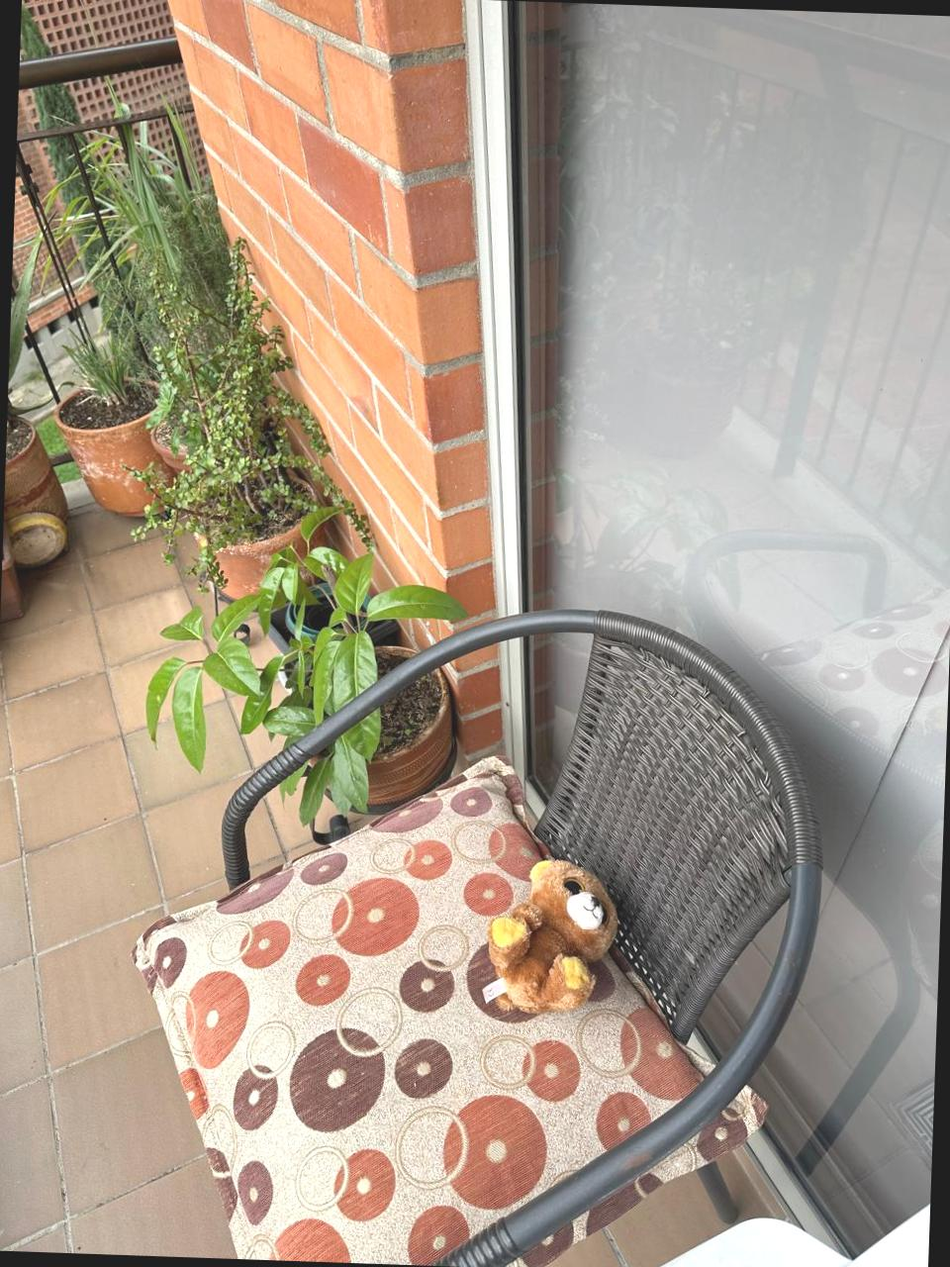peluche_sebastian: (489, 850, 633, 1015)
